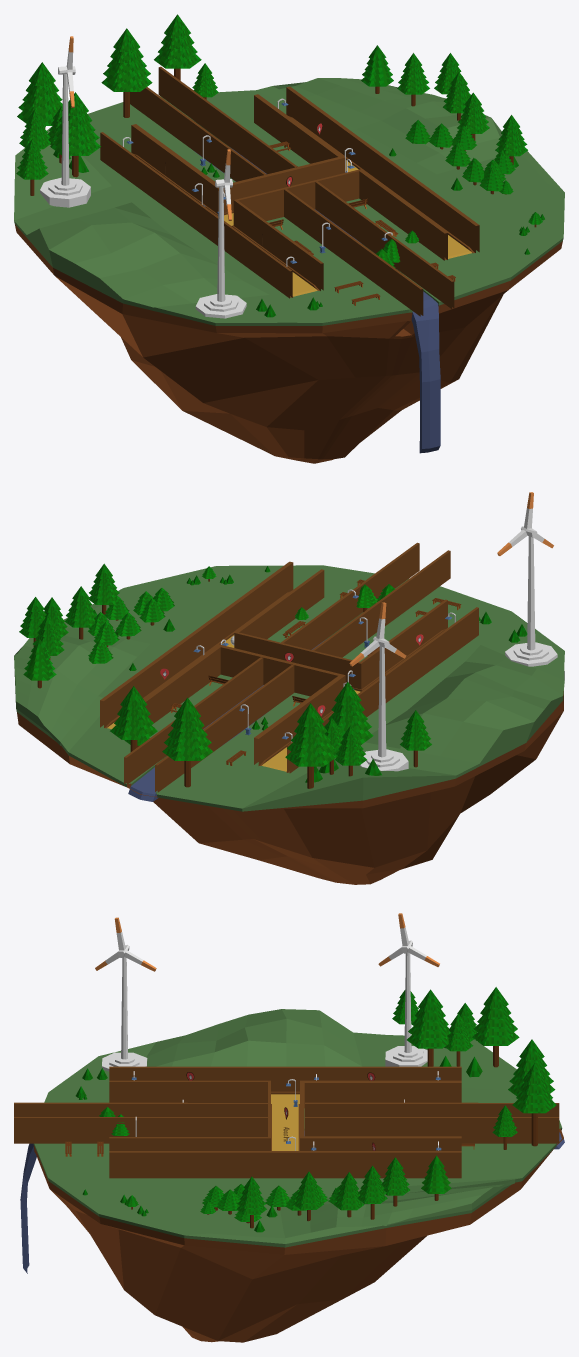
The model's file is hassenPortfolio.glb.
3 renders of one model, top to bottom at view 1: azimuth 30°, elevation 25°; view 2: azimuth 150°, elevation 25°; view 3: azimuth 270°, elevation 25°, orthographic. The views are drawn at different scales.
Parts seen in each view (by area): view 1: land, tree.015, wall-boundary-right-longer, wall-boundary-left-longer, wall-boundary-water-surface-02, wall-boundary-water-surface-04, wall-boundary-water-surface-03, water-body, wall-boundary-water-surface-01, tree.013, wall-boundary-right-down, wall-boundary-left-top (+17 smaller); view 2: land, tree.015, wall-boundary-right-longer, wall-boundary-water-surface-02, wall-boundary-left-longer, wall-boundary-water-surface-01, wall-boundary-water-surface-04, wall-boundary-water-surface-03, tree.013, wall-boundary-top, wall-boundary-right-top, wall-boundary-down (+18 smaller); view 3: land, wall-boundary-right-longer, tree.015, wall-boundary-water-surface-04, wall-boundary-left-longer, wall-boundary-water-surface-03, wall-boundary-left-down, wall-boundary-left-top, wall-boundary-water-surface-02, wall-boundary-water-surface-01, wall-boundary-right-top, wall-boundary-right-down (+14 smaller).
Part boxes in pixels (x1,y1,x2,y2): land: (14,78,564,463); tree.015: (16,14,218,195); wall-boundary-right-longer: (286,86,479,252); wall-boundary-left-longer: (100,132,292,298); wall-boundary-water-surface-02: (284,189,423,316); wall-boundary-water-surface-04: (315,181,454,308); wall-boundary-water-surface-03: (158,66,297,174); water-body: (194,147,440,453); wall-boundary-water-surface-01: (130,87,266,181); tree.013: (405,120,515,194); wall-boundary-right-down: (359,169,447,260); wall-boundary-left-top: (131,124,218,213); land: (14,565,564,884); tree.015: (110,682,431,788); wall-boundary-right-longer: (100,561,293,727); wall-boundary-water-surface-02: (312,550,450,657); wall-boundary-left-longer: (287,607,478,773); wall-boundary-water-surface-01: (155,665,294,792); wall-boundary-water-surface-04: (281,542,419,649); wall-boundary-water-surface-03: (124,657,263,784); tree.013: (88,588,174,663); wall-boundary-top: (219,644,344,696); wall-boundary-right-top: (144,644,220,723); wall-boundary-down: (234,632,361,689); land: (33,1009,563,1342); wall-boundary-right-longer: (109,1151,461,1178); tree.015: (392,987,556,1149); wall-boundary-water-surface-04: (14,1117,267,1143); wall-boundary-left-longer: (109,1066,461,1091); wall-boundary-water-surface-03: (305,1117,559,1143); wall-boundary-left-down: (109,1080,270,1102); wall-boundary-left-top: (300,1080,461,1107); wall-boundary-water-surface-02: (14,1102,267,1116); wall-boundary-water-surface-01: (305,1102,559,1116); wall-boundary-right-top: (300,1136,461,1150); wall-boundary-right-down: (109,1137,270,1150).
Bounding box in the file's own units: 146 × 112 × 156.
19 materials, 2 textured.
